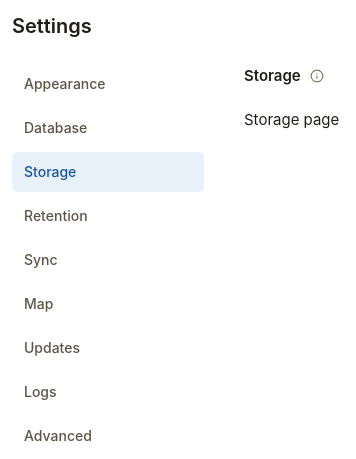
SettingsLayout › shows one area at a time and moves between them
Expected: the text "Storage page" is shown, [244,110,339,129]
Expected: the text "Map page" is not shown
Click the link "Map" at x=39, y=303, box [24,295,53,312]
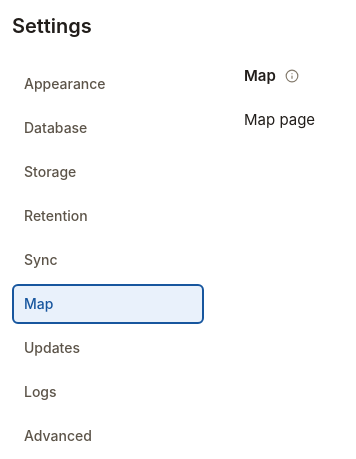
Result: the text "Map page" is shown at [244,110,315,129]
Result: the text "Storage page" is gone
